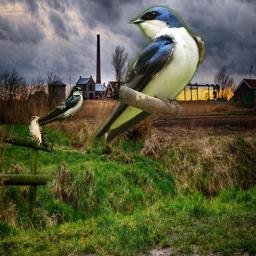Cuckoo: (28, 115, 56, 156)
Swallow: (91, 5, 206, 146), (36, 85, 83, 127)
